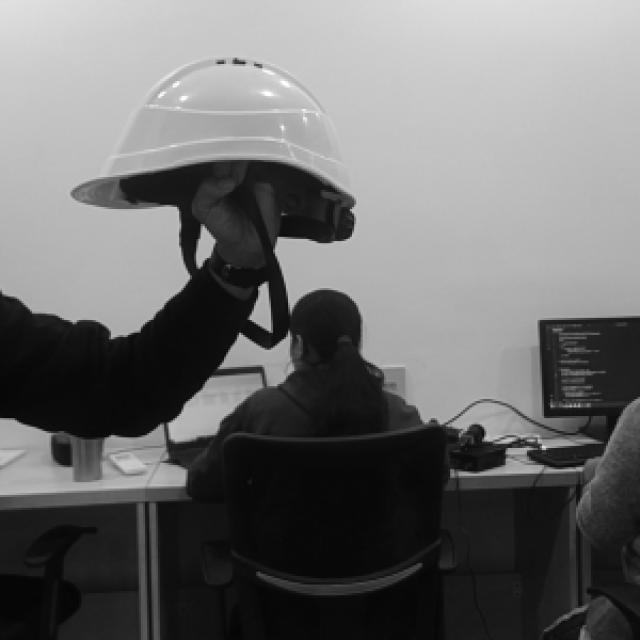safety_helmet: (70, 57, 357, 212)
